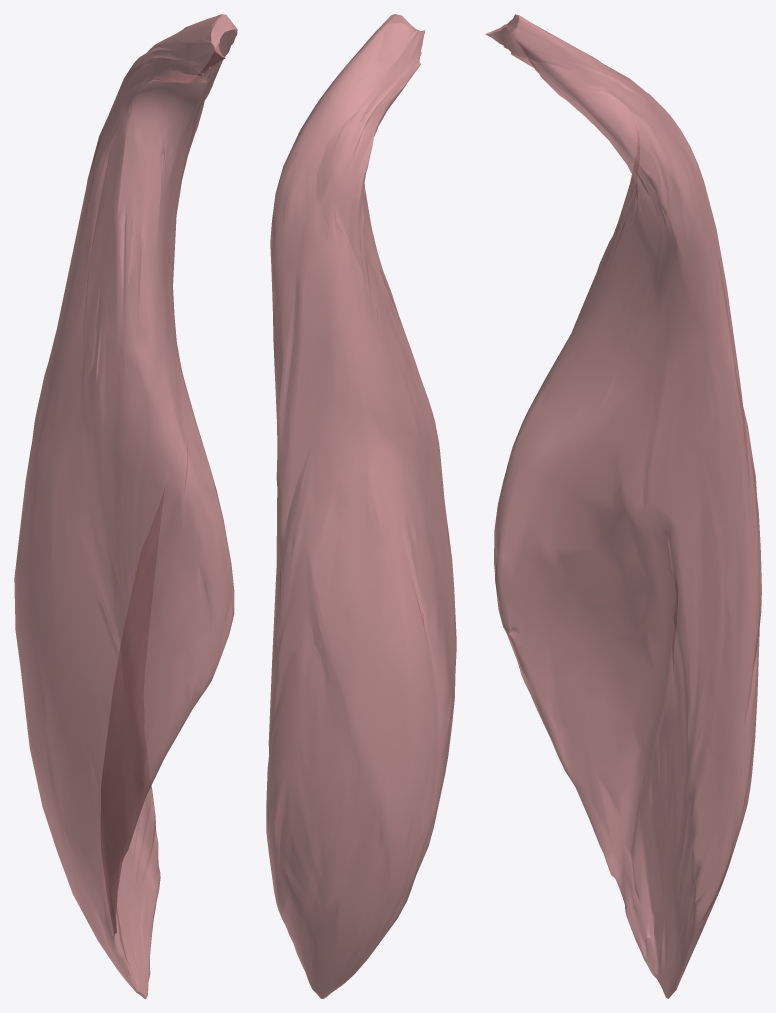
The picture shows the model from 3 angles, left to right: view 1: azimuth 30°, elevation 25°; view 2: azimuth 150°, elevation 25°; view 3: azimuth 270°, elevation 25°; orthographic projection. The views are drawn at different scales.
Parts seen in each view (by area): view 1: BP9217_medial_head_of_left_gastrocnemius; view 2: BP9217_medial_head_of_left_gastrocnemius; view 3: BP9217_medial_head_of_left_gastrocnemius.
Part boxes in pixels (<box>): BP9217_medial_head_of_left_gastrocnemius: <box>14,14,237,998</box>; BP9217_medial_head_of_left_gastrocnemius: <box>266,14,456,998</box>; BP9217_medial_head_of_left_gastrocnemius: <box>485,14,761,998</box>.
Bounding box in the file's own units: 0.0525 × 0.3093 × 0.079.
